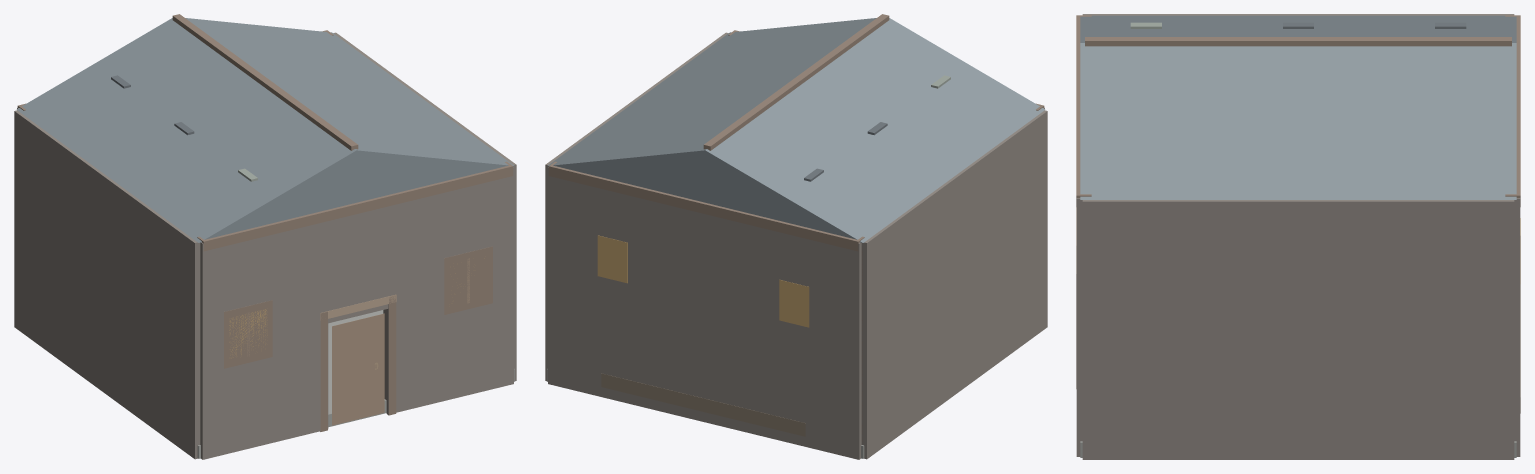
File: river_granary_inhabited.glb
3 views of the same model, side by side, from view 1: azimuth 30°, elevation 25°; view 2: azimuth 150°, elevation 25°; view 3: azimuth 270°, elevation 25° (orthographic). The views are drawn at different scales.
Visible parts, largest first — view 1: river_granary_mat_01, river_granary_mat_07, river_granary_mat_02, river_granary_mat_04, river_granary_mat_00, river_granary_mat_03; view 2: river_granary_mat_01, river_granary_mat_07, river_granary_mat_02, river_granary_mat_10, river_granary_mat_06; view 3: river_granary_mat_01, river_granary_mat_07, river_granary_mat_02.
Part boxes in pixels (left/top/right/bottom): river_granary_mat_01: left=14, top=32, right=516, bottom=459; river_granary_mat_07: left=16, top=18, right=513, bottom=242; river_granary_mat_02: left=17, top=14, right=513, bottom=431; river_granary_mat_04: left=247, top=258, right=469, bottom=425; river_granary_mat_00: left=197, top=310, right=514, bottom=458; river_granary_mat_03: left=320, top=294, right=396, bottom=320; river_granary_mat_01: left=545, top=32, right=1047, bottom=459; river_granary_mat_07: left=548, top=18, right=1045, bottom=242; river_granary_mat_02: left=548, top=14, right=1044, bottom=441; river_granary_mat_10: left=601, top=373, right=805, bottom=436; river_granary_mat_06: left=597, top=235, right=809, bottom=327; river_granary_mat_01: left=1076, top=14, right=1520, bottom=459; river_granary_mat_07: left=1080, top=15, right=1516, bottom=199; river_granary_mat_02: left=1076, top=15, right=1520, bottom=388.
Size of the model in its own units: 3.97 by 3.24 by 3.98.
